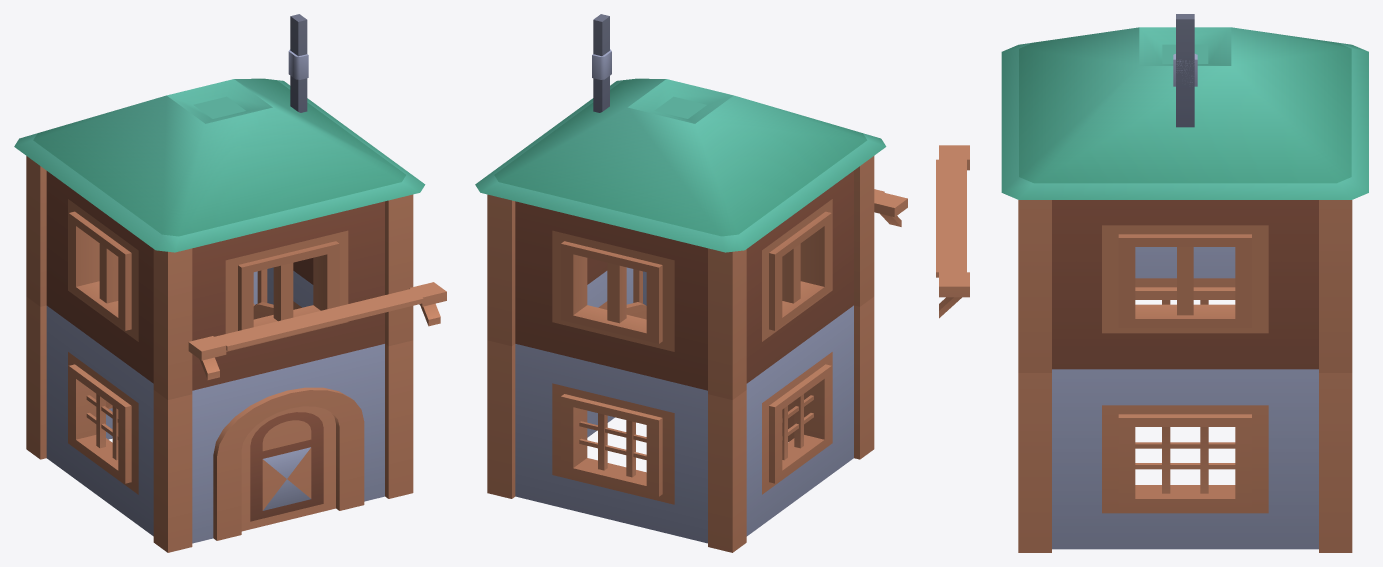
Rendered from shop.glb.
The picture shows the model from 3 angles, left to right: view 1: azimuth 30°, elevation 25°; view 2: azimuth 150°, elevation 25°; view 3: azimuth 270°, elevation 25°; orthographic projection. The views are drawn at different scales.
Visible parts, largest first — view 1: shop; view 2: shop; view 3: shop.
Part boxes in pixels (bbox=[...]): shop: bbox=[14, 14, 446, 552]; shop: bbox=[475, 14, 907, 552]; shop: bbox=[936, 14, 1368, 552].
Bounding box in the file's own units: 4.62 × 7.1 × 5.45.
Materials: 1 (1 with a texture image).
